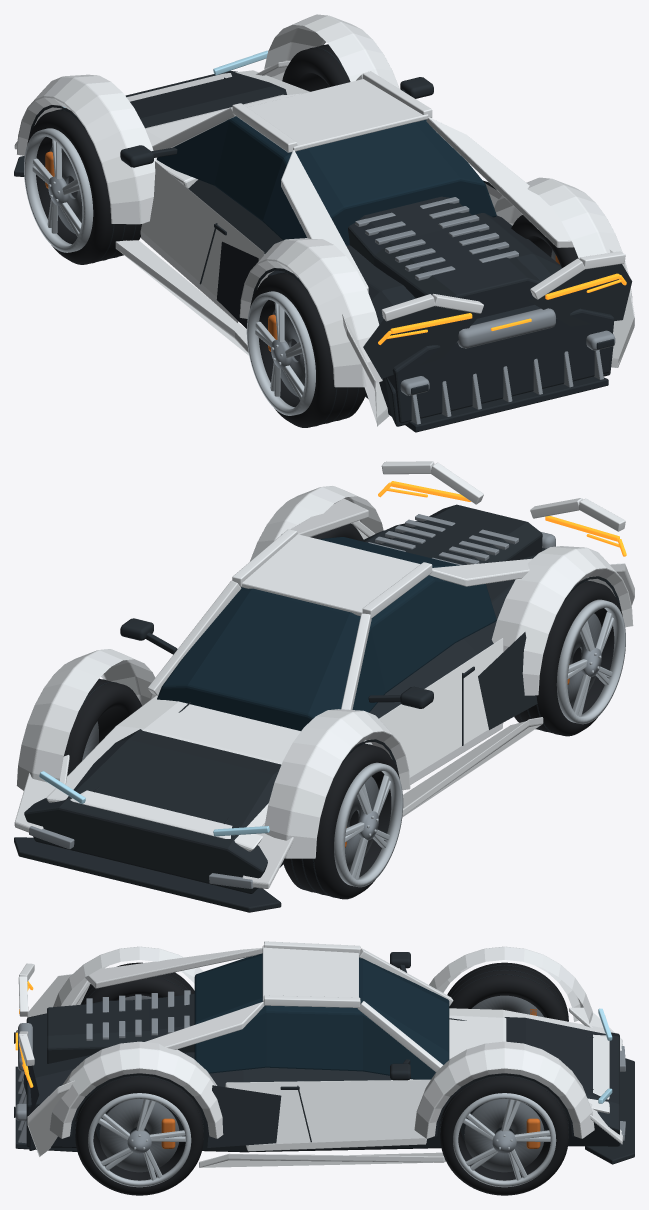
Rendered from Cloudline_C01.fbx.
3 renders of one model, top to bottom at view 1: azimuth 30°, elevation 25°; view 2: azimuth 150°, elevation 25°; view 3: azimuth 270°, elevation 25°, orthographic. The views are drawn at different scales.
Visible parts, largest first — view 1: Carbon monocoque, Canopy glass, Rear engine spine, Front sculpted fender -1, Rear sculpted fender -1, Door skin -1, Floating white roof, Rear tire -1, Front tire -1, Front sculpted fender 1, Rear sculpted fender 1, Flying buttress.001 (+23 smaller); view 2: Canopy glass, Carbon monocoque, Central hood, Front sculpted fender -1, Floating white roof, Rear sculpted fender -1, Door skin -1, Front sculpted fender 1, Front tire -1, Front splitter, Rear tire -1, Rear engine spine (+20 smaller); view 3: Canopy glass, Carbon monocoque, Door skin 1, Front sculpted fender 1, Rear sculpted fender 1, Rear tire 1, Front tire 1, Rear engine spine, Floating white roof, Central hood, Front tire -1, Side intake 1 (+25 smaller).
Part boxes in pixels (x1,y1,x2,y2): Carbon monocoque: [125, 70, 614, 423]; Canopy glass: [157, 116, 496, 245]; Rear engine spine: [348, 196, 540, 318]; Front sculpted fender -1: [17, 74, 156, 224]; Rear sculpted fender -1: [239, 238, 382, 387]; Door skin -1: [140, 161, 264, 322]; Floating white roof: [247, 79, 428, 151]; Rear tire -1: [250, 271, 366, 427]; Front tire -1: [27, 108, 141, 264]; Front sculpted fender 1: [264, 14, 399, 88]; Rear sculpted fender 1: [494, 177, 632, 325]; Flying buttress.001: [426, 117, 574, 247]; Canopy glass: [157, 537, 496, 730]; Carbon monocoque: [24, 520, 586, 893]; Central hood: [46, 695, 300, 851]; Front sculpted fender -1: [264, 709, 410, 858]; Floating white roof: [241, 534, 420, 616]; Rear sculpted fender -1: [491, 546, 633, 695]; Door skin -1: [363, 638, 503, 784]; Front sculpted fender 1: [16, 649, 155, 790]; Front tire -1: [283, 742, 399, 899]; Front splitter: [14, 837, 281, 912]; Rear tire -1: [514, 579, 622, 736]; Rear engine spine: [378, 504, 542, 564]; Canopy glass: [194, 953, 449, 1079]; Carbon monocoque: [26, 1000, 619, 1152]; Door skin 1: [225, 1079, 430, 1151]; Front sculpted fender 1: [414, 1041, 594, 1138]; Rear sculpted fender 1: [49, 1041, 223, 1138]; Rear tire 1: [75, 1073, 203, 1195]; Front tire 1: [440, 1073, 568, 1195]; Rear engine spine: [47, 994, 194, 1063]; Floating white roof: [262, 946, 358, 1001]; Central hood: [409, 1008, 609, 1113]; Front tire -1: [447, 962, 568, 1021]; Side intake 1: [207, 1085, 281, 1147].
Size of the model in its own units: 241 by 148 by 495.
